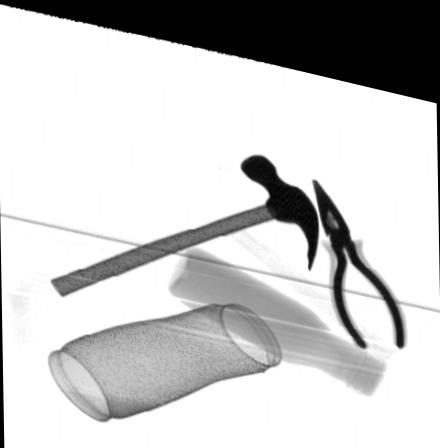Hammer: (49, 141, 318, 294)
Pliers: (311, 163, 407, 332)
